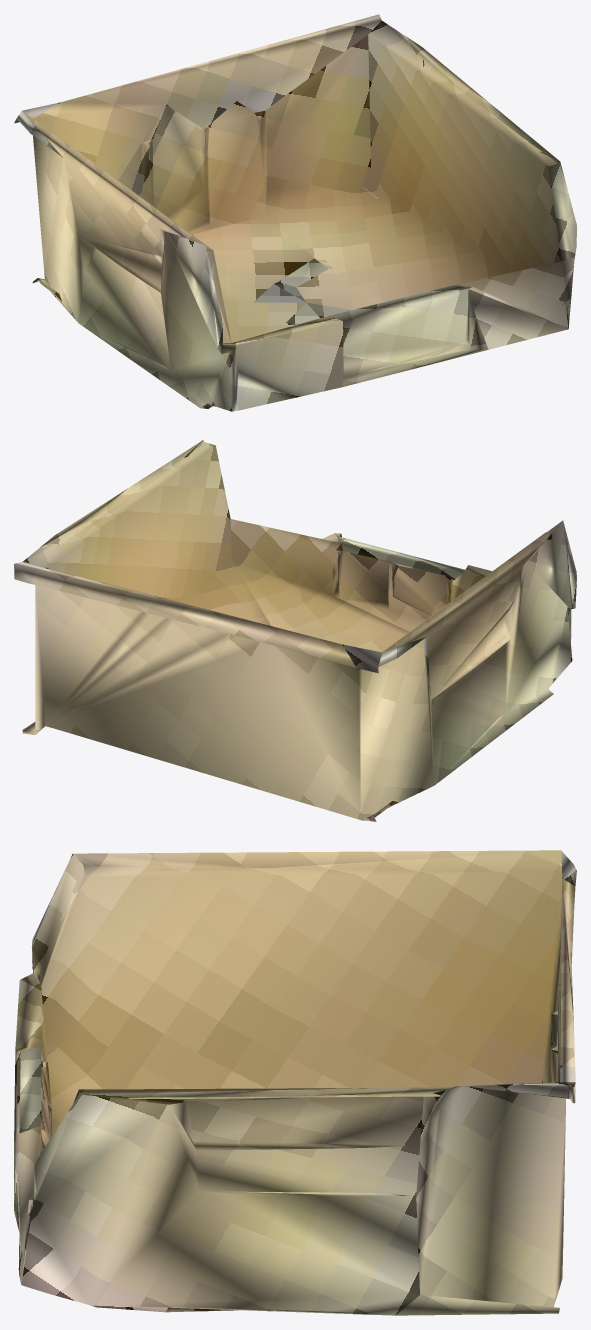
The model's file is Avengers_Thor_PLlrpYniaeB-low.glb.
3 views of the same model, one above another, from view 1: azimuth 30°, elevation 25°; view 2: azimuth 150°, elevation 25°; view 3: azimuth 270°, elevation 25° (orthographic). The views are drawn at different scales.
Visible parts, largest first — view 1: Avengers_Thor_PLlrpYniaeB; view 2: Avengers_Thor_PLlrpYniaeB; view 3: Avengers_Thor_PLlrpYniaeB.
Boxes of the visible parts, <box> form: Avengers_Thor_PLlrpYniaeB: <box>14,14,576,411</box>; Avengers_Thor_PLlrpYniaeB: <box>14,440,576,821</box>; Avengers_Thor_PLlrpYniaeB: <box>14,850,576,1315</box>.
Size of the model in its own units: 0.2822 by 0.1318 by 0.2797.
1 material, 1 textured.
